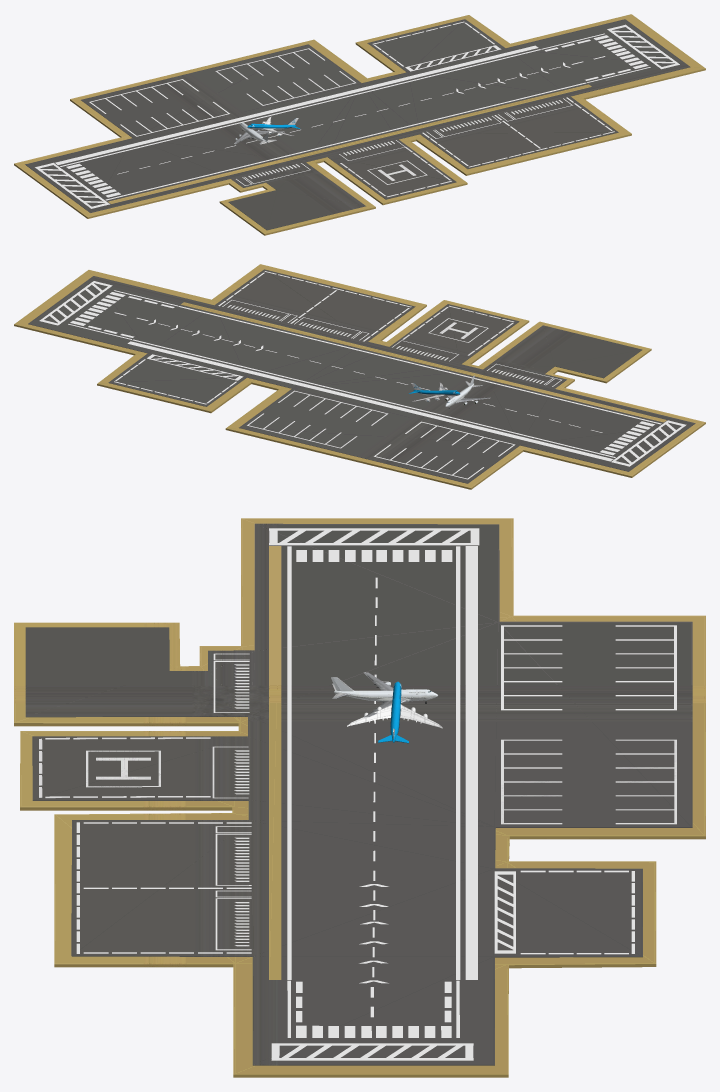
File: tenerife_airport_disaster.glb
3 views of the same model, one above another, from view 1: azimuth 30°, elevation 25°; view 2: azimuth 150°, elevation 25°; view 3: azimuth 270°, elevation 25° (orthographic). The views are drawn at different scales.
Visible parts, largest first — view 1: Object_70, Object_30, Object_6, Object_8, Object_87, Object_90; view 2: Object_70, Object_30, Object_6, Object_8, Object_87, Object_90; view 3: Object_70, Object_30, Object_6, Object_8, Object_87, Object_90.
Boxes of the visible parts, x1=… form: Object_70: x1=25, y1=19, x2=690, y2=230; Object_30: x1=14, y1=14, x2=705, y2=235; Object_6: x1=35, y1=21, x2=679, y2=208; Object_8: x1=215, y1=48, x2=562, y2=197; Object_87: x1=234, y1=122, x2=284, y2=144; Object_90: x1=247, y1=116, x2=299, y2=135; Object_70: x1=28, y1=269, x2=695, y2=483; Object_30: x1=14, y1=264, x2=705, y2=489; Object_6: x1=39, y1=271, x2=686, y2=479; Object_8: x1=227, y1=305, x2=543, y2=448; Object_87: x1=440, y1=375, x2=490, y2=408; Object_90: x1=409, y1=382, x2=460, y2=401; Object_70: x1=25, y1=523, x2=692, y2=1065; Object_30: x1=14, y1=518, x2=705, y2=1077; Object_6: x1=76, y1=528, x2=676, y2=1060; Object_8: x1=39, y1=664, x2=676, y2=946; Object_87: x1=331, y1=672, x2=437, y2=717; Object_90: x1=347, y1=681, x2=442, y2=743.
Size of the model in its own units: 870 by 21.64 by 457.
Materials: 7 (5 with a texture image).
